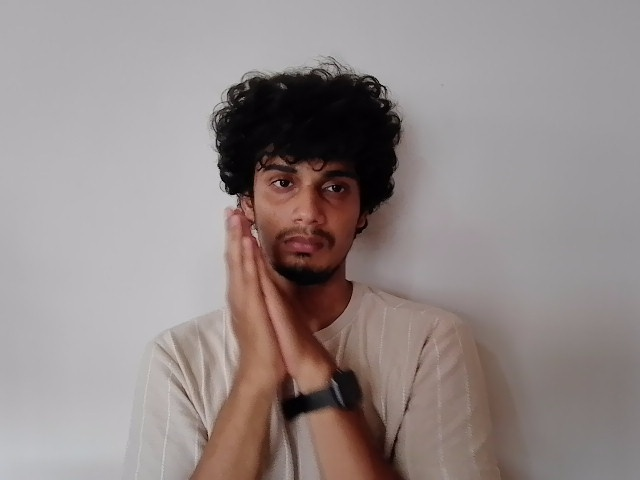sleep: (222, 203, 338, 375)
